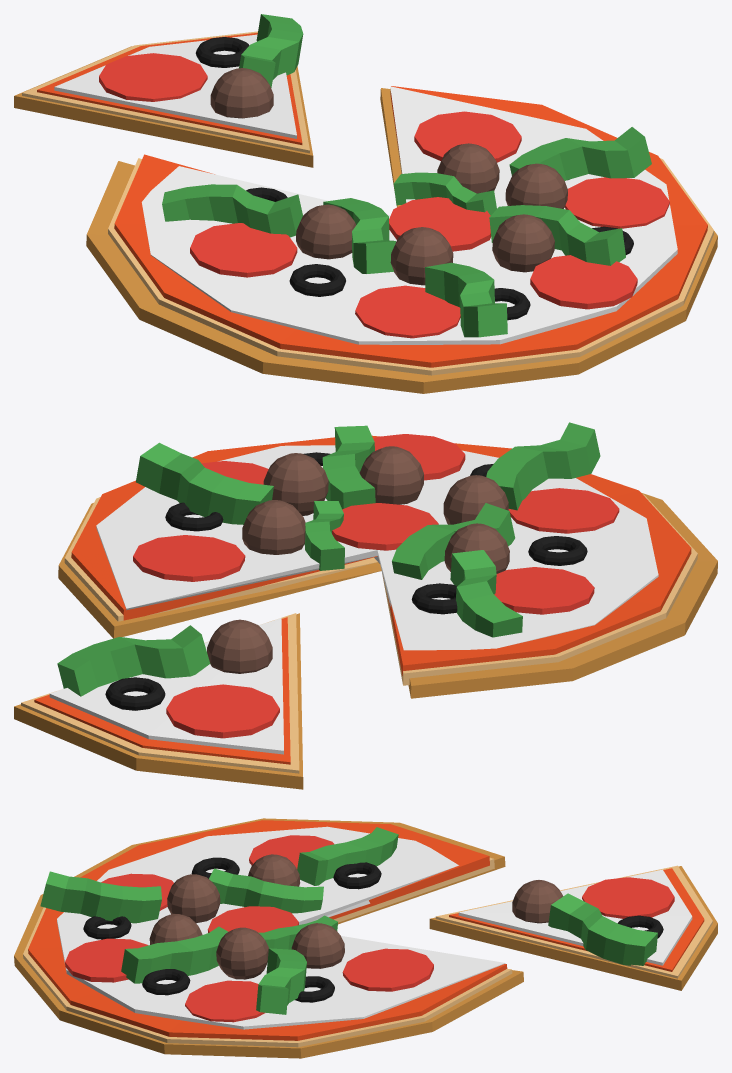
File: PizzaPoly.fbx
3 renders of one model, top to bottom at view 1: azimuth 30°, elevation 25°; view 2: azimuth 150°, elevation 25°; view 3: azimuth 270°, elevation 25°, orthographic. The views are drawn at different scales.
Visible parts, largest first — view 1: group_514071001, mesh_1986060847, mesh_1087377152, mesh_1020842956, mesh_1731628447, group_245737192, mesh_145507403, mesh_324568781, mesh_684873200; view 2: group_514071001, mesh_1986060847, group_245737192, mesh_1087377152, mesh_1020842956, mesh_1731628447, mesh_324568781, mesh_145507403, mesh_684873200; view 3: group_514071001, group_245737192, mesh_1087377152, mesh_1986060847, mesh_1020842956, mesh_1731628447, mesh_324568781, mesh_145507403, mesh_684873200.
Part boxes in pixels (<box>): group_514071001: <box>86,86,717,393</box>; mesh_1986060847: <box>54,34,296,138</box>; mesh_1087377152: <box>14,46,313,167</box>; mesh_1020842956: <box>99,53,207,101</box>; mesh_1731628447: <box>22,31,309,153</box>; group_245737192: <box>239,14,303,87</box>; mesh_145507403: <box>210,68,273,118</box>; mesh_324568781: <box>37,32,302,144</box>; mesh_684873200: <box>195,37,249,67</box>; group_514071001: <box>58,422,717,698</box>; mesh_1986060847: <box>49,618,283,754</box>; group_245737192: <box>57,625,210,696</box>; mesh_1087377152: <box>14,613,303,789</box>; mesh_1020842956: <box>166,684,279,738</box>; mesh_1731628447: <box>21,613,299,773</box>; mesh_324568781: <box>34,617,290,764</box>; mesh_145507403: <box>207,619,272,673</box>; mesh_684873200: <box>105,677,165,710</box>; group_514071001: <box>14,818,523,1058</box>; group_245737192: <box>548,893,657,965</box>; mesh_1087377152: <box>429,866,717,990</box>; mesh_1986060847: <box>458,869,692,965</box>; mesh_1020842956: <box>582,877,674,918</box>; mesh_1731628447: <box>435,865,712,978</box>; mesh_324568781: <box>449,868,704,971</box>; mesh_145507403: <box>512,880,563,923</box>; mesh_684873200: <box>617,915,663,938</box>.
Bounding box in the file's own units: 98.78 × 15.09 × 129.
